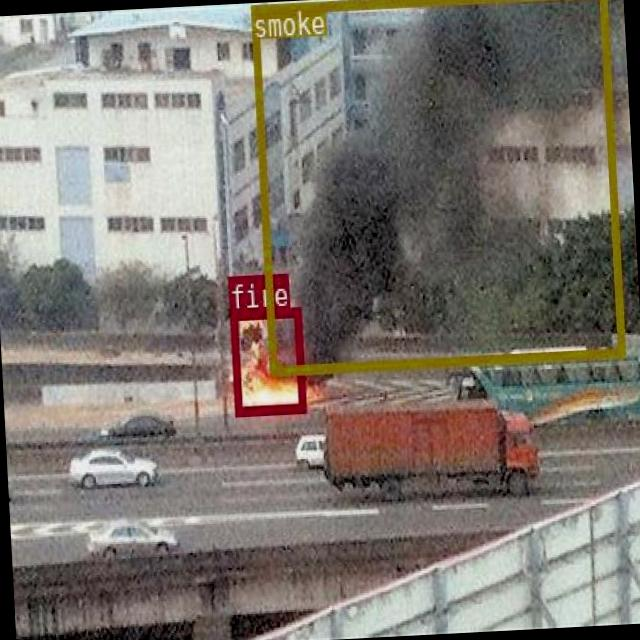fire: (228, 306, 304, 414)
smoke: (249, 0, 625, 374)
